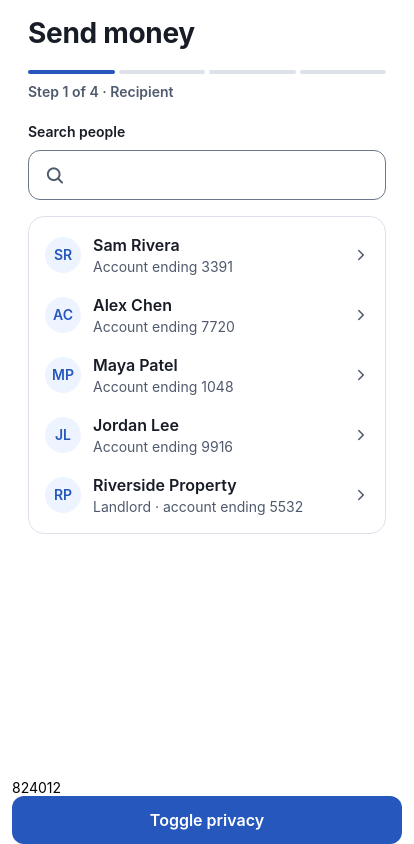
Test case: Send money › sends a normal transfer: the money is held, the receipt appears, and it can be cancelled
Click the button with aria-label "Sam Rivera, Account ending 3391" at x=207, y=255, box [37, 225, 377, 285]
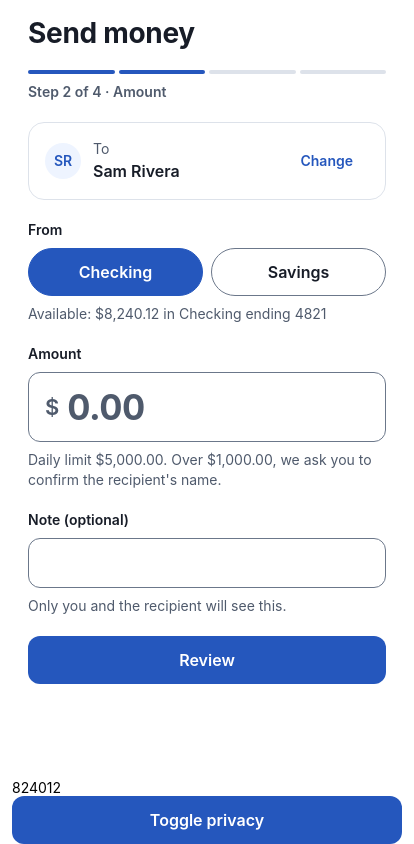
Type "75" into the field named "Amount, USD" at x=218, y=407, box [67, 373, 369, 441]
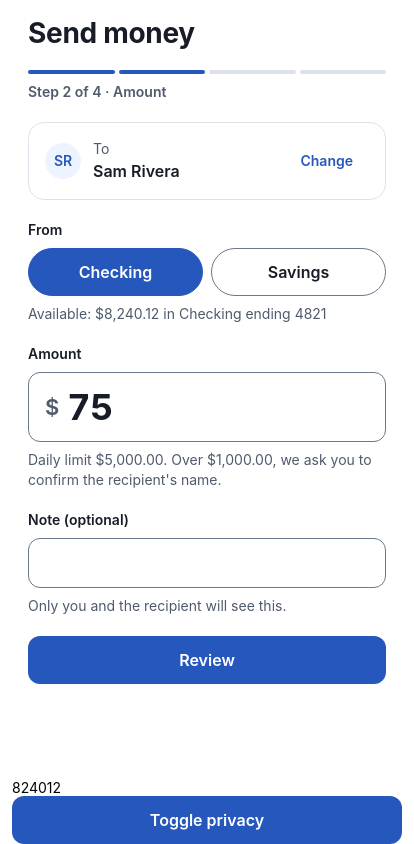
Click the button "Review" at x=207, y=660, box [28, 636, 386, 684]
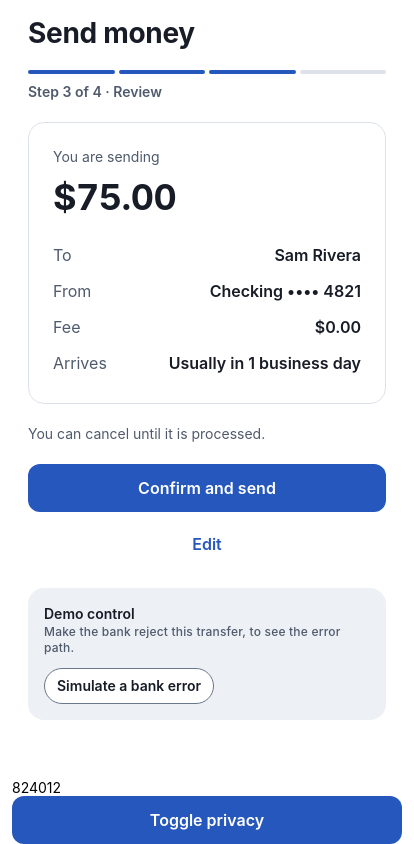
Expected: the element named "Step 3 of 4, Review" is shown, [28, 70, 386, 102]
Click the button "Confirm and send" at x=207, y=488, box [28, 464, 386, 512]
Wait 1300 ms
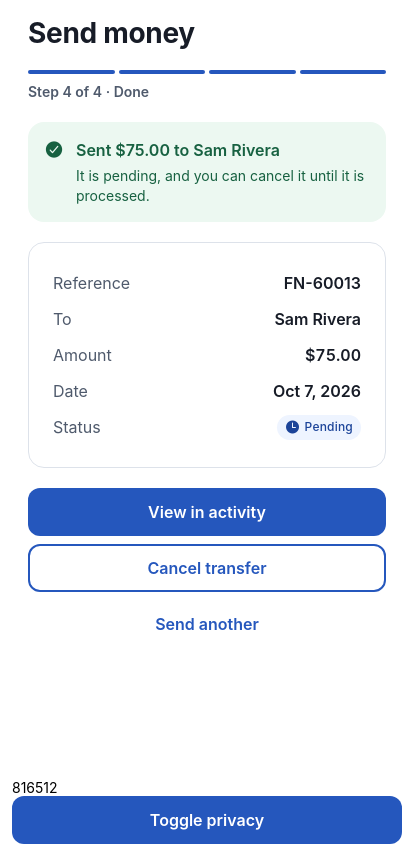
Expected: the text "Sent $75.00 to Sam Rivera" is shown, [76, 140, 280, 160]
Click the button "Cancel transfer" at x=207, y=568, box [28, 544, 386, 592]
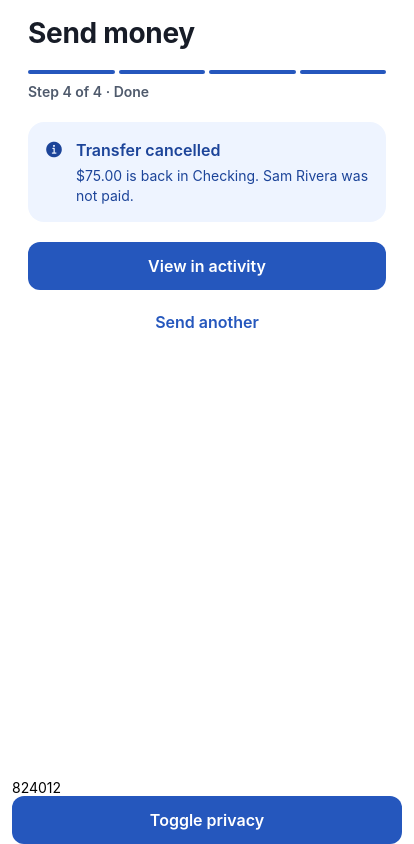
Expected: the text "Transfer cancelled" is shown, [76, 140, 220, 160]
